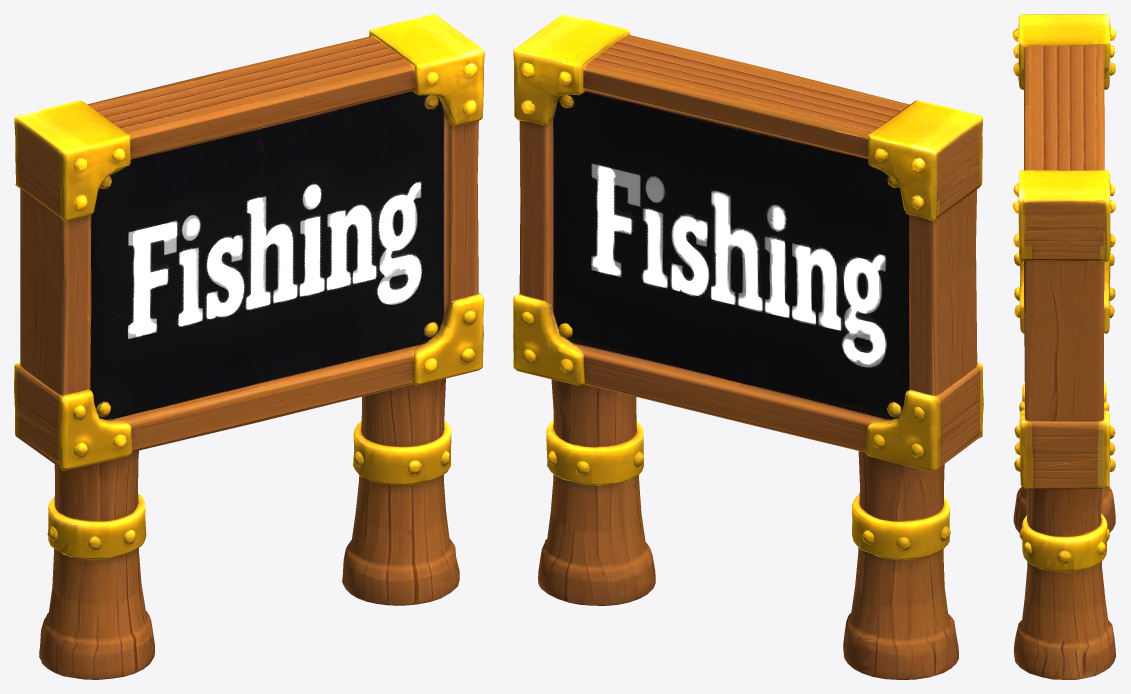
The model's file is fishing.glb.
The picture shows the model from 3 angles, left to right: view 1: azimuth 30°, elevation 25°; view 2: azimuth 150°, elevation 25°; view 3: azimuth 270°, elevation 25°; orthographic projection. The views are drawn at different scales.
Bounding box in the file's own units: 0.8281 × 1 × 0.1948.
1 material, 1 textured.
